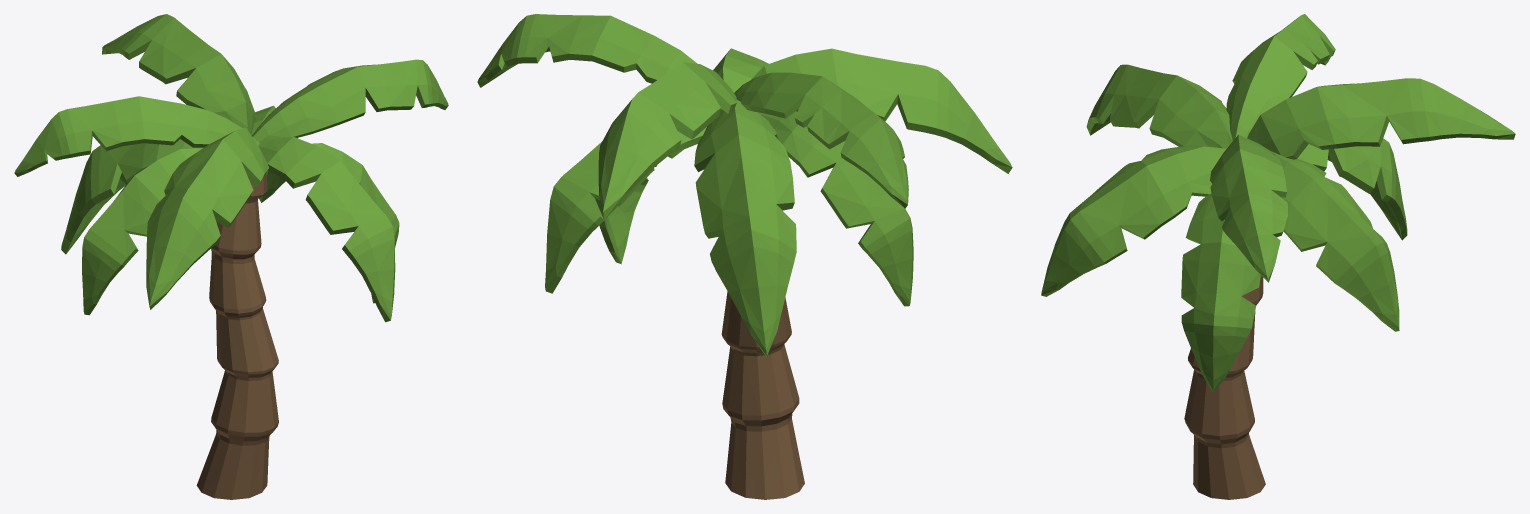
The model's file is cc0-palm-bent.glb.
3 renders of one model, left to right at view 1: azimuth 30°, elevation 25°; view 2: azimuth 150°, elevation 25°; view 3: azimuth 270°, elevation 25°, orthographic. The views are drawn at different scales.
Parts seen in each view (by area): view 1: cc0-palm-bent; view 2: cc0-palm-bent; view 3: cc0-palm-bent.
Boxes of the visible parts, bbox=[...] form: cc0-palm-bent: bbox=[14, 14, 448, 499]; cc0-palm-bent: bbox=[477, 14, 1012, 499]; cc0-palm-bent: bbox=[1041, 14, 1515, 499].
Size of the model in its own units: 7.45 by 7 by 7.17.
